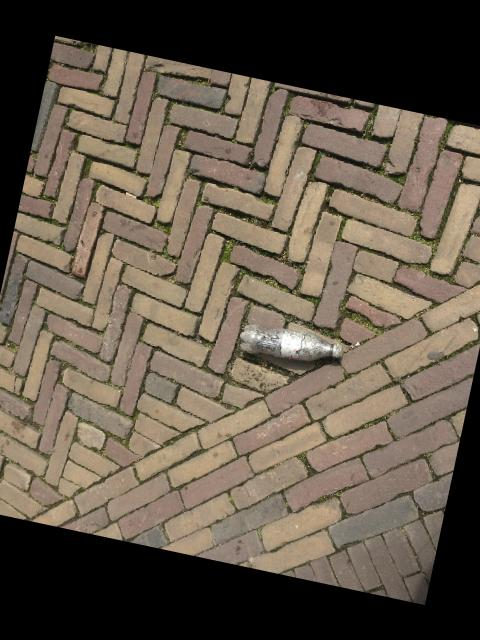plastic: (239, 324, 347, 361)
